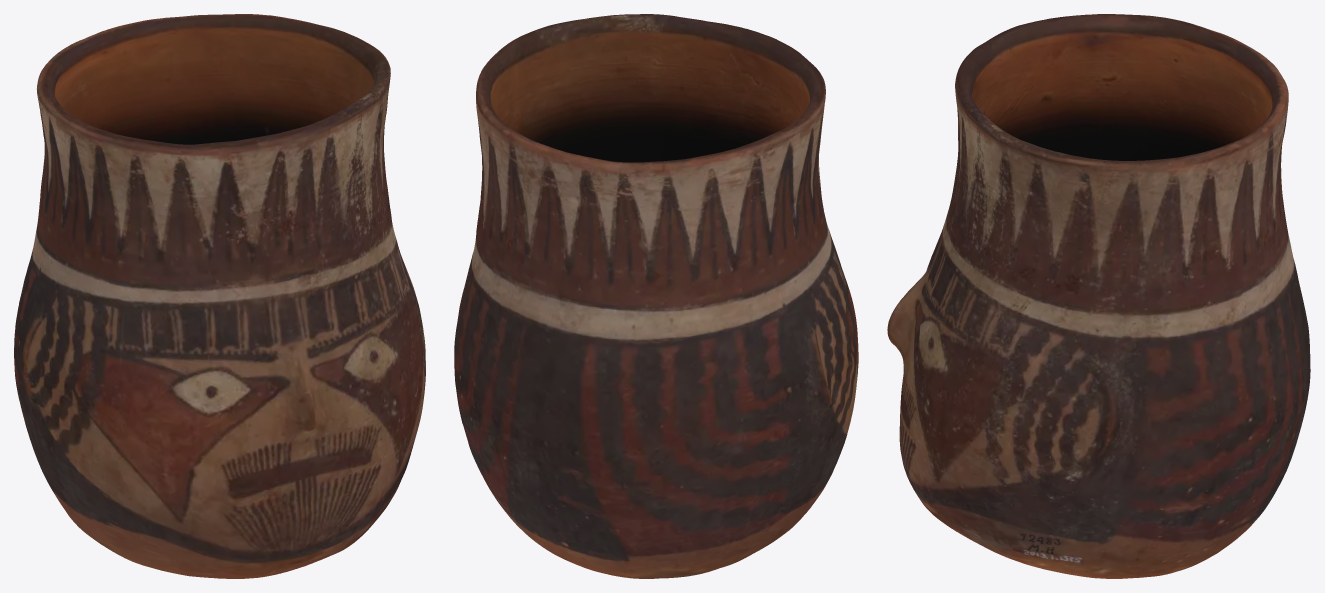
Rendered from preview.glb.
3 renders of one model, left to right at view 1: azimuth 30°, elevation 25°; view 2: azimuth 150°, elevation 25°; view 3: azimuth 270°, elevation 25°, orthographic.
Parts seen in each view (by area): view 1: Object_2; view 2: Object_2; view 3: Object_2.
Boxes of the visible parts, x1=… form: Object_2: x1=14, y1=14, x2=425, y2=578; Object_2: x1=454, y1=14, x2=858, y2=578; Object_2: x1=887, y1=14, x2=1310, y2=578.
Size of the model in its own units: 136 by 168 by 136.
Materials: 1 (1 with a texture image).
